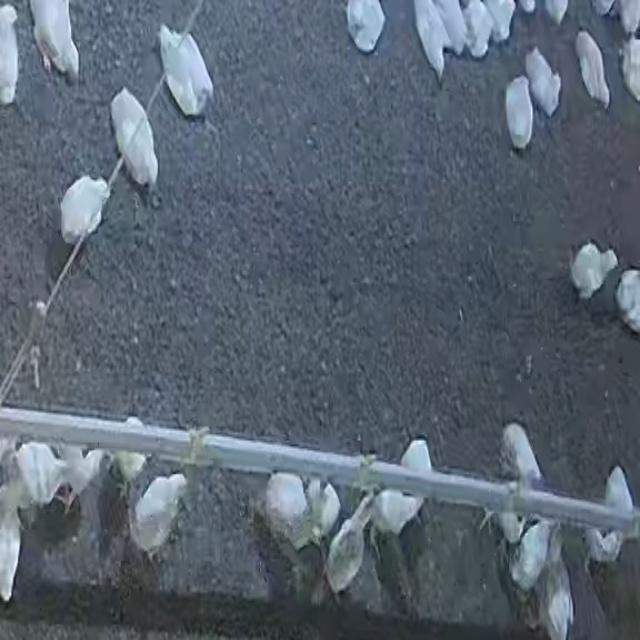chicken: (372, 441, 432, 538), (324, 492, 378, 596), (128, 472, 190, 560), (107, 83, 159, 186), (585, 464, 635, 562), (159, 30, 215, 114), (12, 440, 67, 509), (536, 536, 572, 636), (263, 471, 310, 544), (60, 176, 110, 244), (508, 518, 554, 591), (296, 479, 342, 549), (499, 424, 547, 490), (108, 419, 148, 496), (571, 242, 620, 302), (573, 31, 611, 108), (523, 46, 562, 116), (504, 76, 534, 150), (619, 35, 640, 104)
